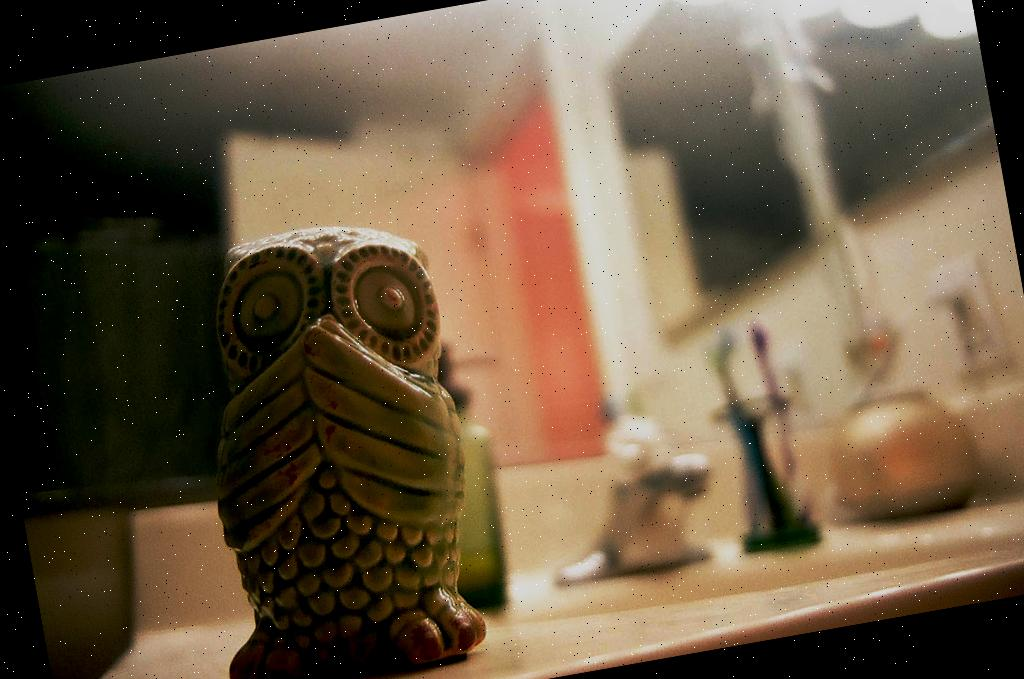Owl: (147, 209, 496, 679)
